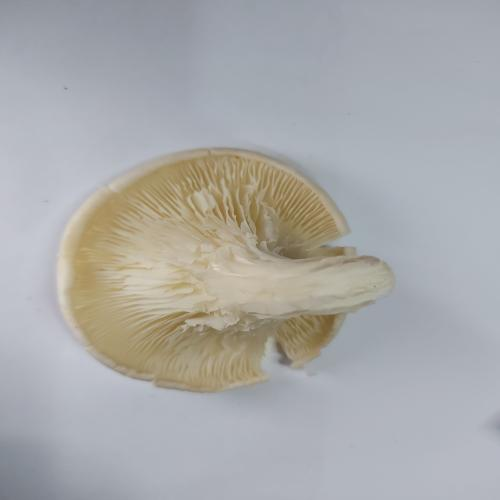Oyster Mushroom: (55, 146, 396, 393)
